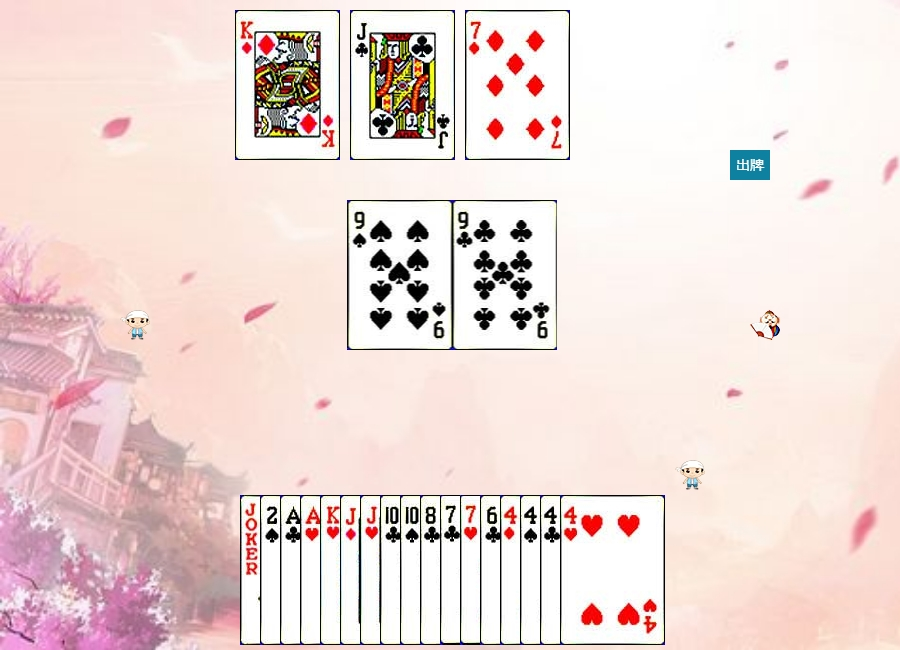10~2: (380, 495, 485, 645)
10~4: (400, 495, 505, 645)
11~1: (340, 495, 445, 645)
11~2: (350, 10, 455, 160)
11~3: (360, 495, 465, 645)
13~1: (235, 10, 340, 160)
13~3: (320, 495, 425, 645)
14~2: (280, 495, 385, 645)
14~3: (300, 495, 405, 645)
15~4: (260, 495, 365, 645)
18~4: (240, 495, 345, 645)
4~1: (500, 495, 605, 645)
4~2: (540, 495, 645, 645)
4~3: (560, 495, 665, 645)
4~4: (520, 495, 625, 645)
6~2: (480, 495, 585, 645)
7~1: (465, 10, 570, 160)
7~2: (440, 495, 545, 645)
7~3: (460, 495, 565, 645)
8~2: (420, 495, 525, 645)
9~2: (453, 200, 558, 350)
9~4: (348, 200, 453, 350)
